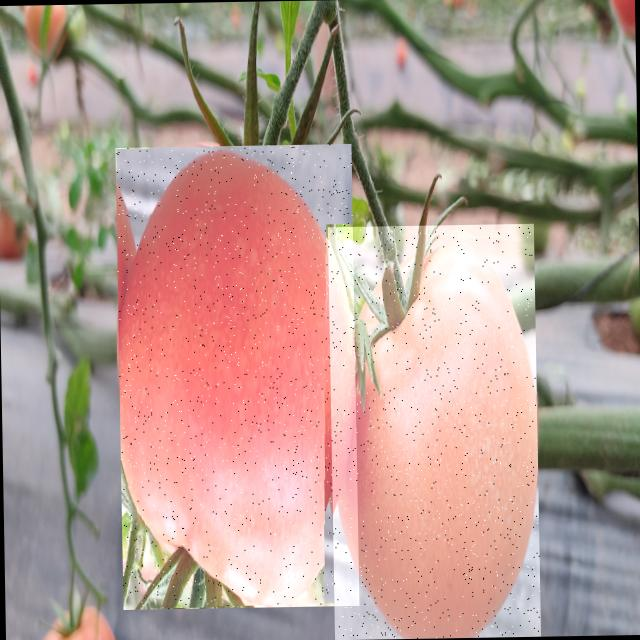Ripe Tomato: (115, 143, 359, 610), (328, 223, 540, 640)
